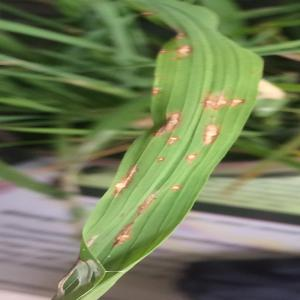Rice_Blast: (107, 152, 146, 195), (144, 104, 189, 141), (97, 217, 143, 252), (120, 192, 169, 222), (199, 88, 247, 111), (194, 118, 223, 148), (168, 22, 196, 48), (171, 35, 196, 62), (179, 144, 203, 171), (151, 41, 175, 64), (142, 79, 166, 101), (149, 150, 171, 170), (163, 133, 186, 152), (162, 178, 184, 196), (141, 4, 161, 21)
